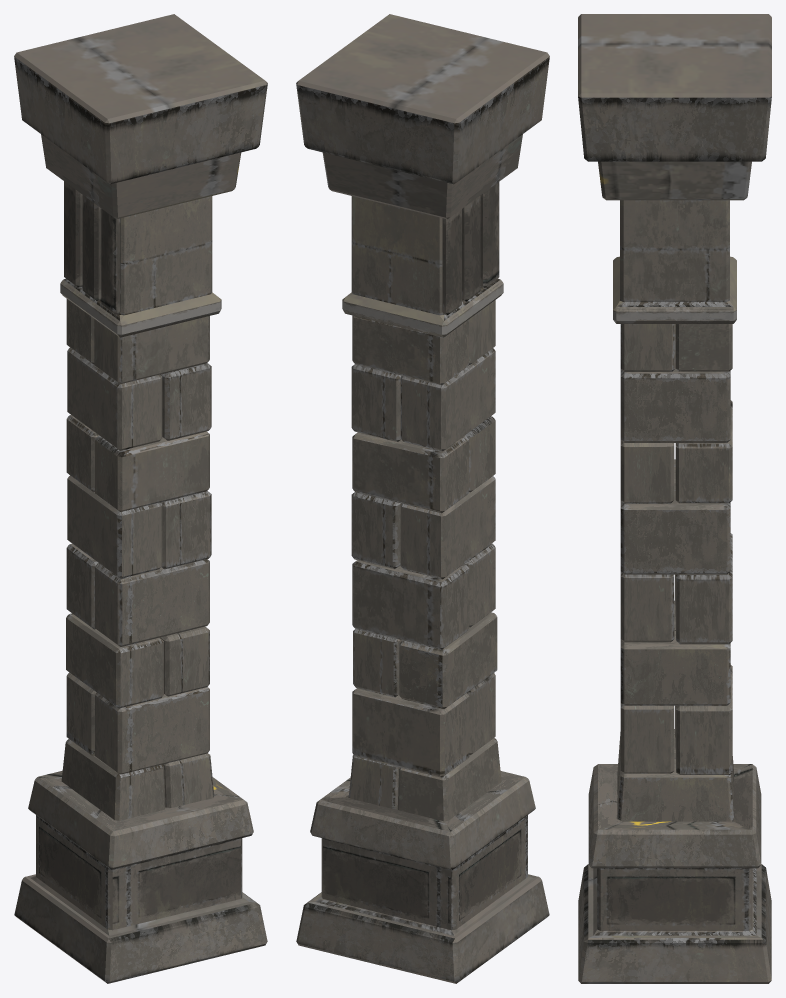
The model's file is SM_Church_Pillar.fbx.
3 views of the same model, side by side, from view 1: azimuth 30°, elevation 25°; view 2: azimuth 150°, elevation 25°; view 3: azimuth 270°, elevation 25° (orthographic). The views are drawn at different scales.
Visible parts, largest first — view 1: SM_Pillar; view 2: SM_Pillar; view 3: SM_Pillar.
Part boxes in pixels (bbox=[...]): SM_Pillar: bbox=[14, 14, 267, 983]; SM_Pillar: bbox=[296, 14, 549, 983]; SM_Pillar: bbox=[578, 14, 771, 983].
Size of the model in its own units: 1.59 by 8.04 by 1.59.
